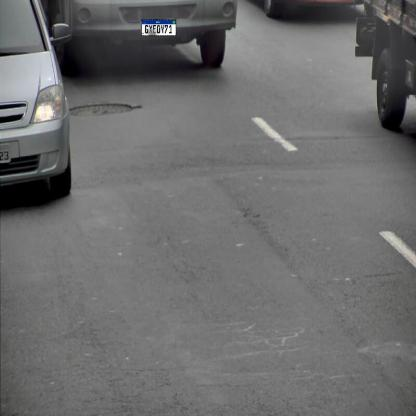PlacaM: (141, 19, 176, 36)
